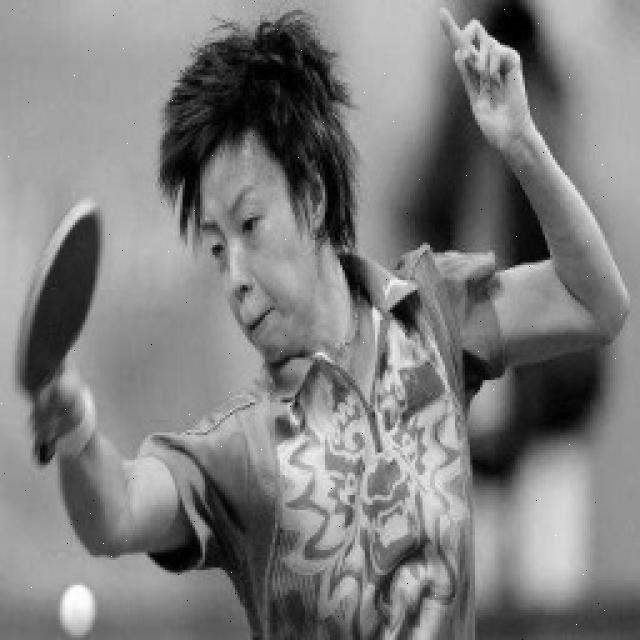ping-pong-ball: (60, 581, 96, 639)
